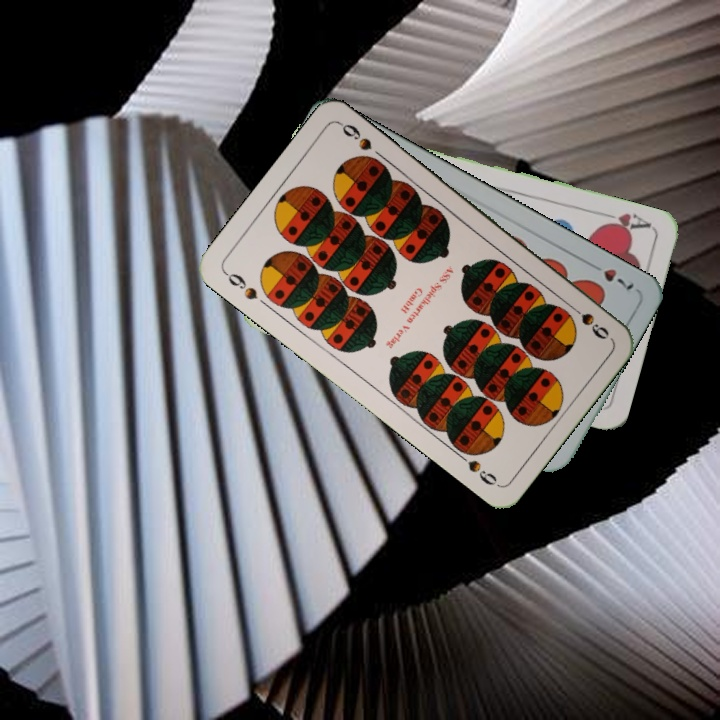H7: (584, 258, 637, 294)
HA: (596, 207, 654, 236)
S9: (562, 299, 612, 342), (220, 267, 260, 303)
